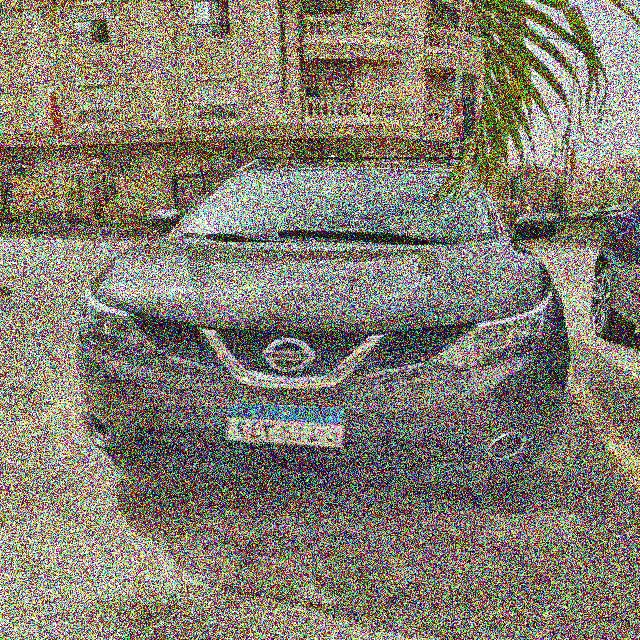License Plate: (221, 401, 349, 452)
